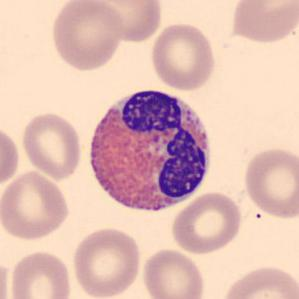Eosinophil: (80, 79, 217, 224)
RBC: (48, 0, 124, 72), (70, 225, 143, 298), (0, 168, 71, 242), (148, 20, 218, 92), (169, 189, 244, 256), (18, 110, 84, 182), (242, 144, 298, 221), (139, 246, 207, 299), (6, 247, 73, 299), (89, 0, 165, 43), (227, 0, 298, 45), (219, 262, 298, 299), (0, 122, 21, 189), (0, 257, 13, 299)
